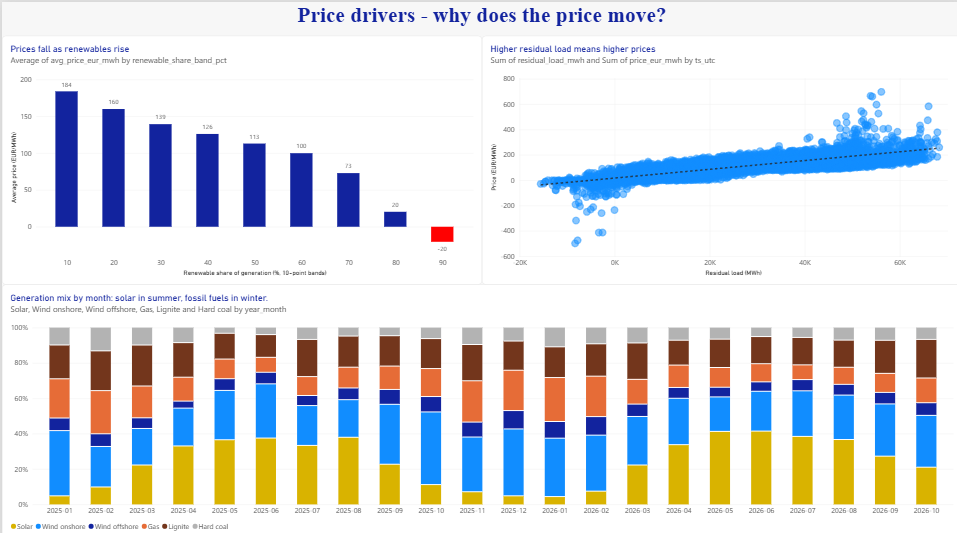

The page's visual inventory and layout, read from the dashboard file:
{"tool":"powerbi","page":{"name":"Price Drivers","canvas":[1920,1080],"ordinal":1},"visuals":[{"type":"clusteredColumnChart","title":"Prices fall as renewables rise","fields":{"Category":["mart_price_by_renewable_band.renewable_share_band_pct"],"Y":["Avg(mart_price_by_renewable_band.avg_price_eur_mwh)"]},"box":[0,67.5,960,497.5],"z":0},{"type":"scatterChart","title":"Higher residual load means higher prices","fields":{"Category":["fct_energy_hourly.ts_utc"],"X":["Sum(fct_energy_hourly.residual_load_mwh)"],"Y":["Sum(fct_energy_hourly.price_eur_mwh)"]},"box":[960,67.5,960,497.5],"z":1000},{"type":"hundredPercentStackedColumnChart","title":"Generation mix by month: solar in summer, fossil fuels in winter.","fields":{"Category":["dim_date.year_month"],"Y":["Sum(fct_energy_hourly.gen_solar_mwh)","Sum(fct_energy_hourly.gen_wind_onshore_mwh)","Sum(fct_energy_hourly.gen_wind_offshore_mwh)","Sum(fct_energy_hourly.gen_gas_mwh)","Sum(fct_energy_hourly.gen_lignite_mwh)","Sum(fct_energy_hourly.gen_hard_coal_mwh)"]},"box":[0,565,1920,515],"z":2000},{"type":"textbox","box":[0,0,1920,67.5],"z":3000}]}

Visuals, with their boxes in screenshot pixels (x1, y1, x2, y2), scaled from the page's 1920x1080 canvas onto the 957x533 screenshot:
"Prices fall as renewables rise" clusteredColumnChart: <bbox>0, 33, 478, 279</bbox>
"Higher residual load means higher prices" scatterChart: <bbox>478, 33, 956, 279</bbox>
"Generation mix by month: solar in summer, fossil fuels in winter." hundredPercentStackedColumnChart: <bbox>0, 279, 956, 532</bbox>
textbox: <bbox>0, 0, 956, 33</bbox>
